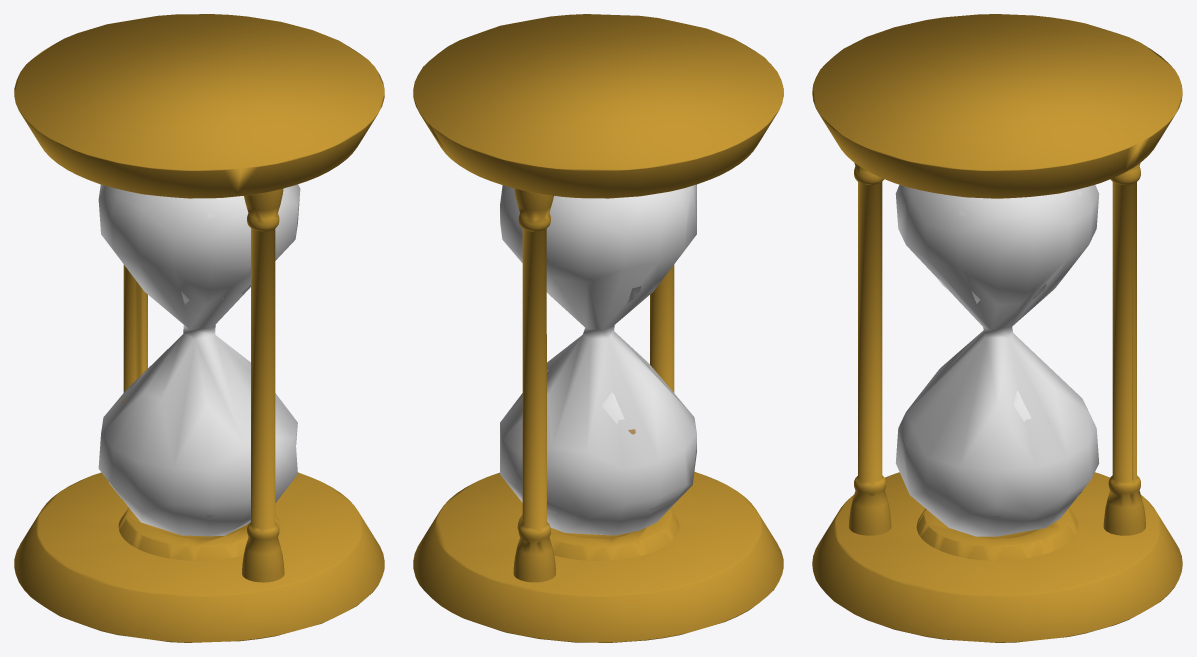
Rendered from hourglass.lo.glb.
The picture shows the model from 3 angles, left to right: view 1: azimuth 30°, elevation 25°; view 2: azimuth 150°, elevation 25°; view 3: azimuth 270°, elevation 25°; orthographic projection.
Visible parts, largest first — view 1: Object_4, Object_2, Object_5; view 2: Object_4, Object_2, Object_5; view 3: Object_4, Object_2, Object_5.
Boxes of the visible parts, <box> form: Object_4: <box>14,14,384,642</box>; Object_2: <box>98,184,300,536</box>; Object_5: <box>123,188,284,582</box>; Object_4: <box>413,14,783,642</box>; Object_2: <box>500,184,696,535</box>; Object_5: <box>513,188,674,582</box>; Object_4: <box>812,14,1182,642</box>; Object_2: <box>895,185,1099,536</box>; Object_5: <box>848,163,1145,535</box>.
Bounding box in the file's own units: 2.27 × 3.2 × 2.27.
